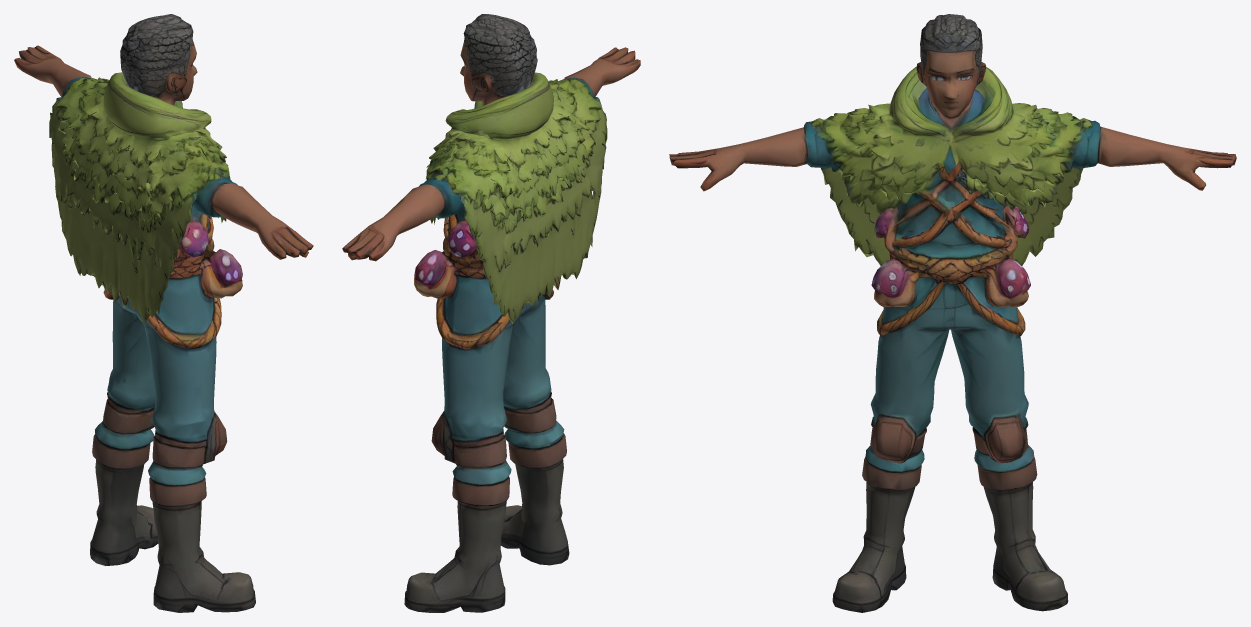
Rendered from n2_tracker.aef9cfd9.glb.
3 views of the same model, side by side, from view 1: azimuth 30°, elevation 25°; view 2: azimuth 150°, elevation 25°; view 3: azimuth 270°, elevation 25° (orthographic). The views are drawn at different scales.
Parts seen in each view (by area): view 1: tripo_node_d2779759-e5bb-469f-b6f0-fa6173002b24; view 2: tripo_node_d2779759-e5bb-469f-b6f0-fa6173002b24; view 3: tripo_node_d2779759-e5bb-469f-b6f0-fa6173002b24.
Part boxes in pixels (bbox=[...]): tripo_node_d2779759-e5bb-469f-b6f0-fa6173002b24: bbox=[14, 14, 313, 612]; tripo_node_d2779759-e5bb-469f-b6f0-fa6173002b24: bbox=[342, 14, 640, 612]; tripo_node_d2779759-e5bb-469f-b6f0-fa6173002b24: bbox=[669, 14, 1236, 612].
Size of the model in its own units: 0.2036 by 1 by 0.9016.
Materials: 1 (1 with a texture image).
